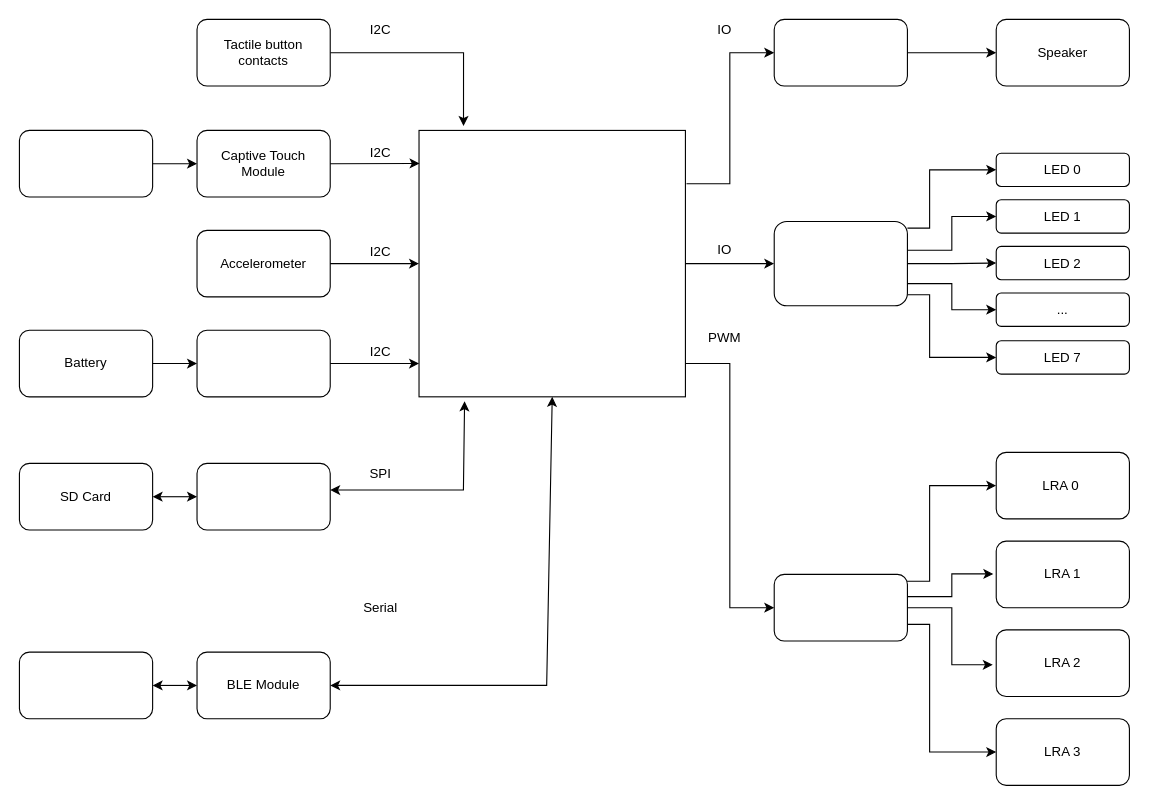
This 1149x805 diagram has some shape labels left out. The shapes that lost their labels are listed below. From the top down, each one's centre as x and y in pixels, then its label:
(840,52): Audio Amp
(85,163): Captive Grid
(551,263): Processor
(840,263): Led Array
(263,363): Battery Management/Gauge
(263,496): Memory
(840,607): Haptic controller
(85,685): BLE Radio
